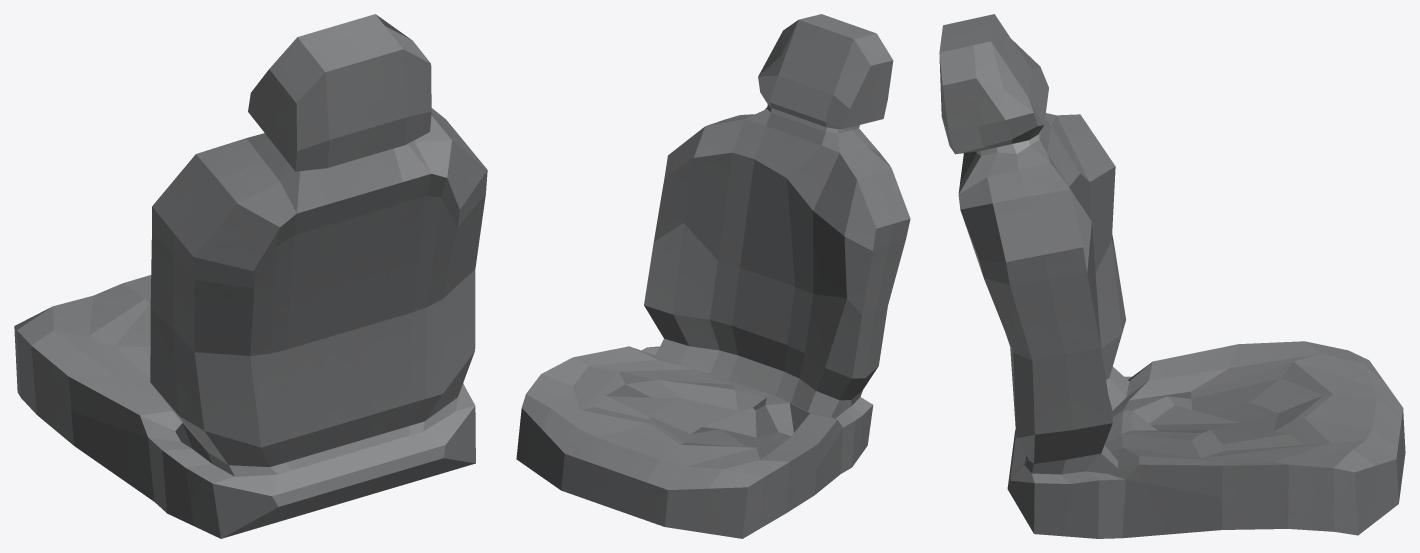
Rendered from car_seat_2.glb.
3 renders of one model, left to right at view 1: azimuth 30°, elevation 25°; view 2: azimuth 150°, elevation 25°; view 3: azimuth 270°, elevation 25°, orthographic. The views are drawn at different scales.
Visible parts, largest first — view 1: car_seat_2; view 2: car_seat_2; view 3: car_seat_2.
Part boxes in pixels (left/top/right/bottom): car_seat_2: left=14, top=14, right=487, bottom=538; car_seat_2: left=516, top=14, right=910, bottom=538; car_seat_2: left=939, top=14, right=1405, bottom=538.
Size of the model in its own units: 0.6599 by 0.9383 by 0.8686.
Materials: 1 (1 with a texture image).
